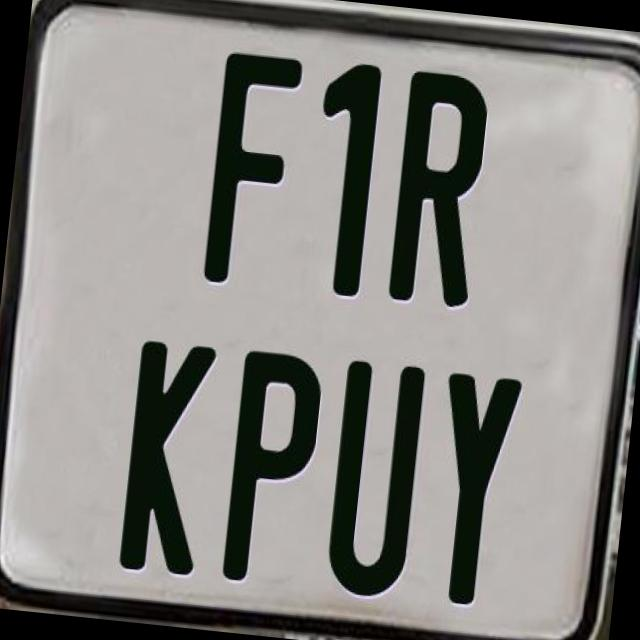1: (300, 60, 384, 298)
F: (201, 48, 305, 292)
K: (118, 337, 216, 580)
P: (220, 349, 330, 589)
R: (387, 69, 497, 312)
U: (319, 358, 425, 607)
Y: (424, 367, 522, 606)
